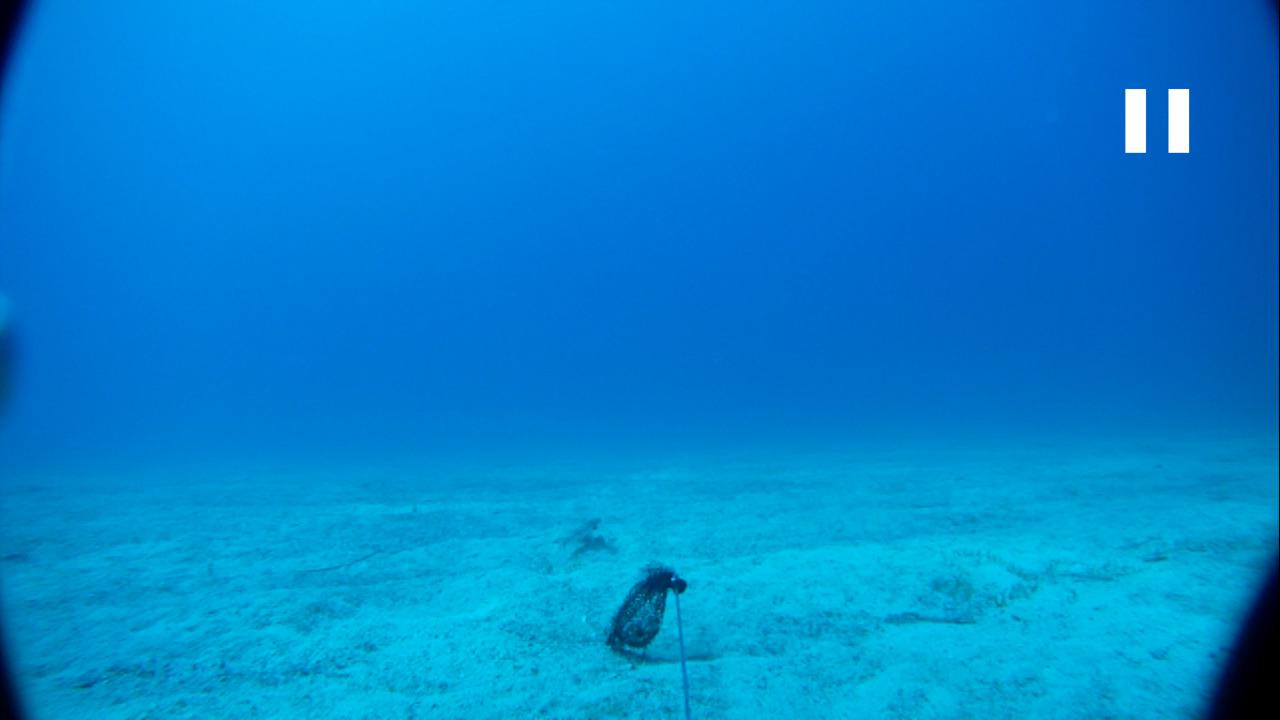dactylopterus: (528, 502, 620, 563)
